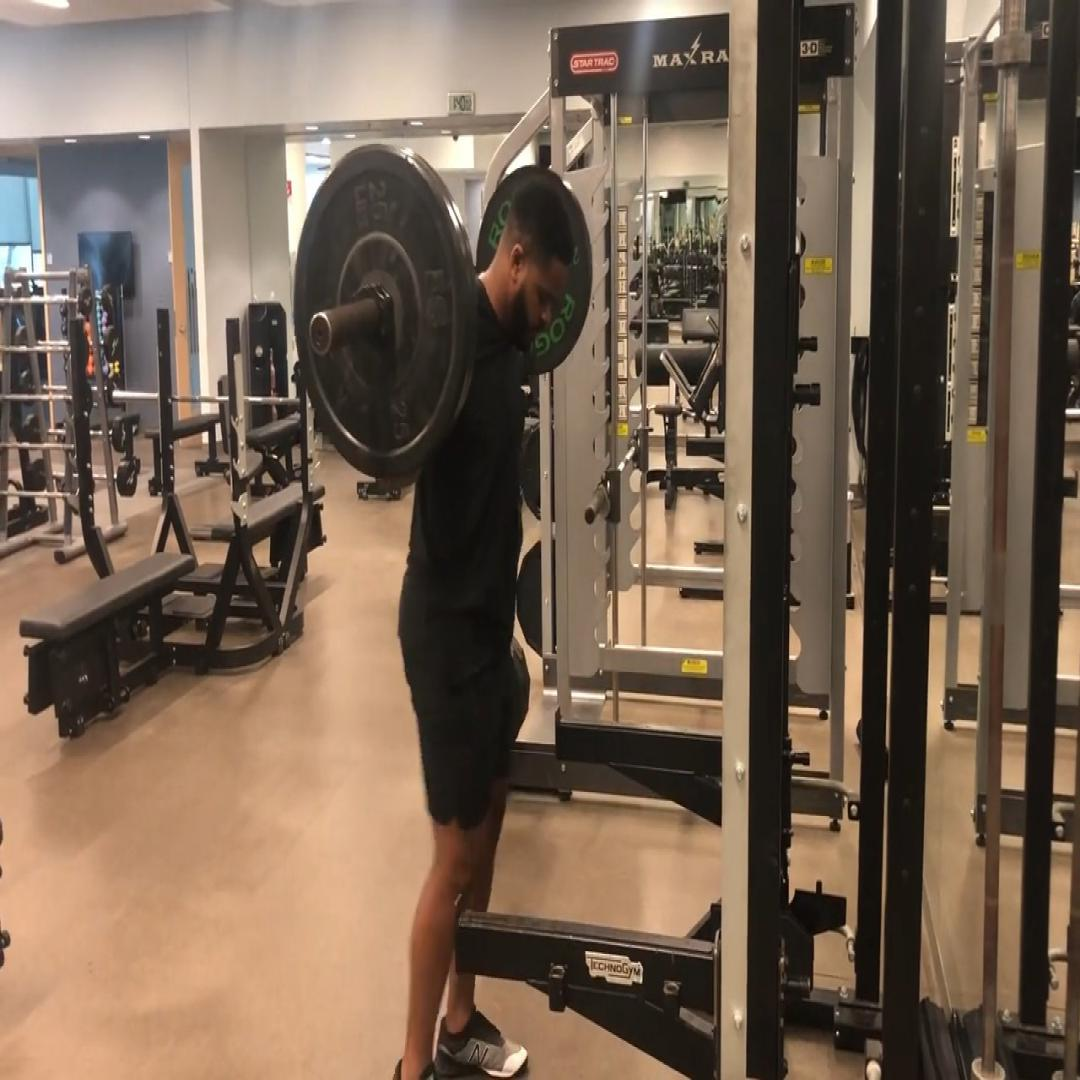Bar: (308, 312, 331, 356)
Barbell: (294, 144, 462, 478)
